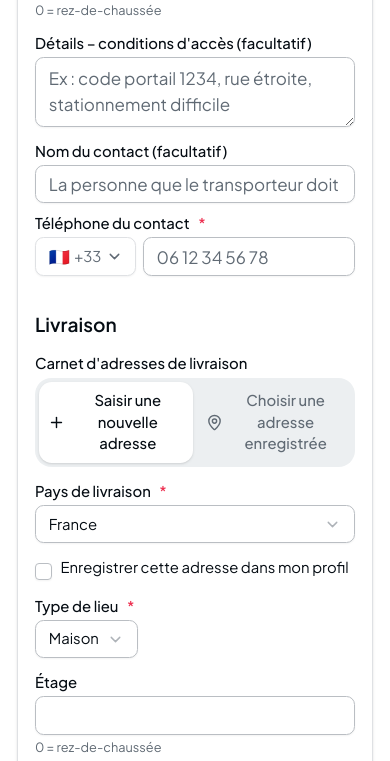
Test: the saved addresses on « Où » (saved_addresses_spec.md §3) › says the delivery is the pickup's address the moment it is chosen
The width and height of the screenshot is (390, 761).
(page scrolled)
Expected: the text "Le retrait et la livraison sont à la même adresse" is not shown
What coordinates should you click on to do the following:
click the button "Choisir une adresse enregistrée"
I would click on:
 (274, 422)
Its box is [197,382,351,463].
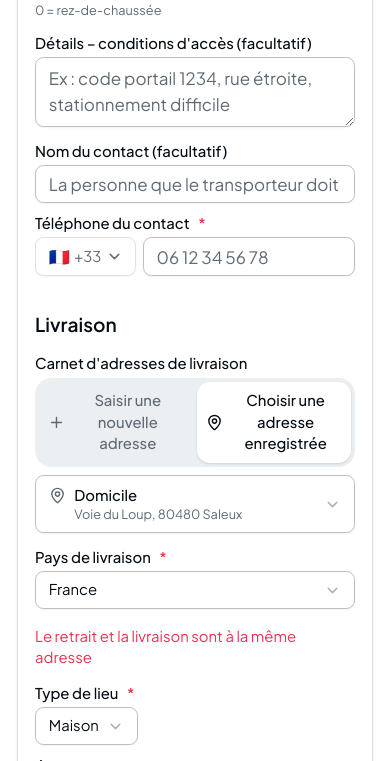
Result: the text "Le retrait et la livraison sont à la même adresse" is shown at [35,627,296,666]
